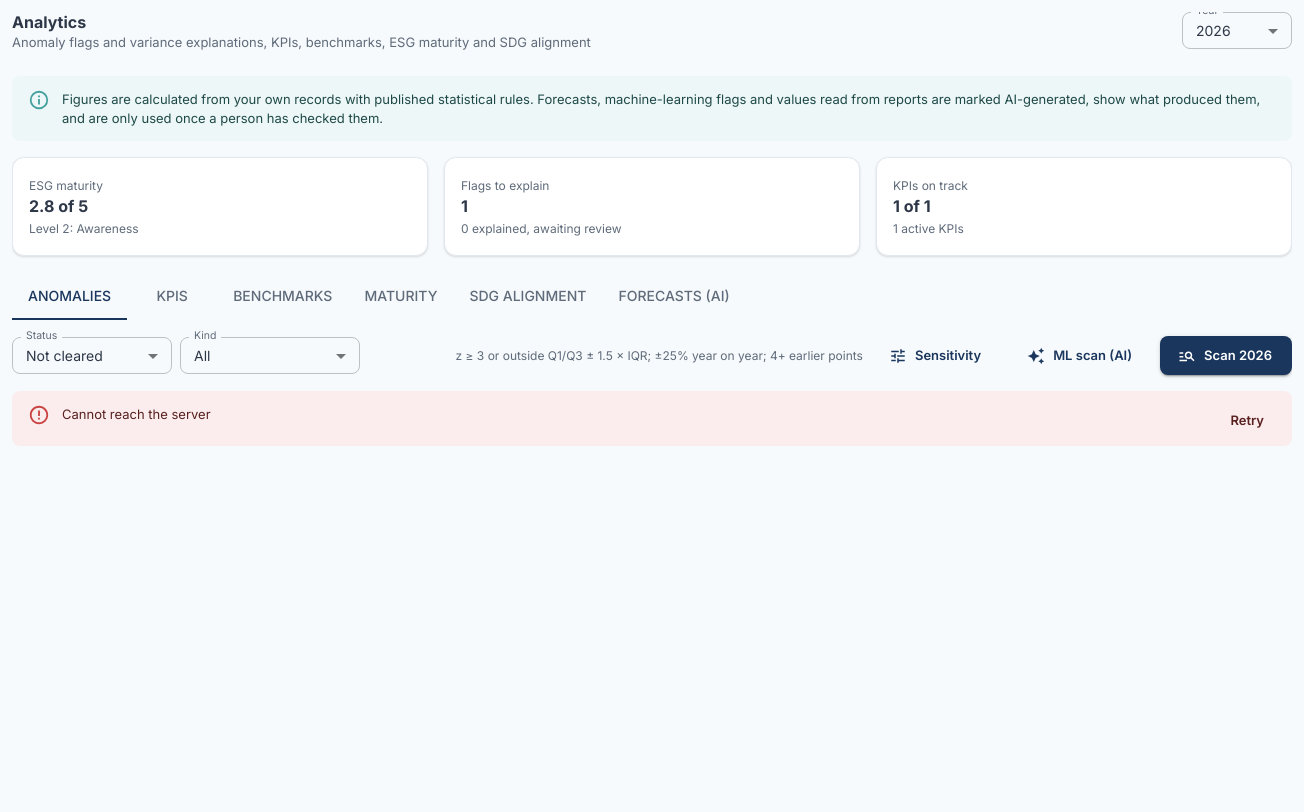
Test: Analytics page › shows the maturity dimensions with their evidence and next step
Click the tab "Maturity".
click(401, 296)  # box left=348, top=272, right=453, bottom=320
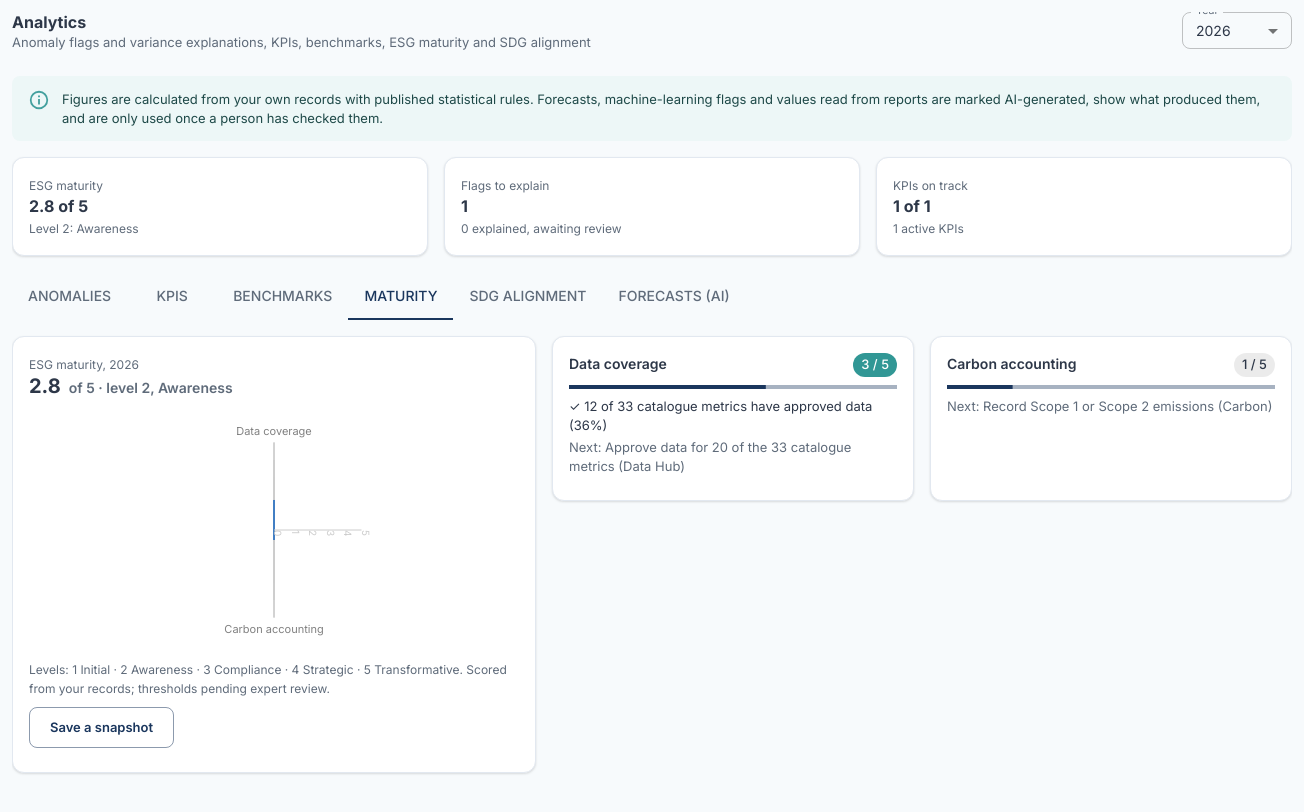
Expected: the element named "Maturity score" reads "2.8 of 5 · level 2, Awareness", left=29, top=374, right=233, bottom=398
Expected: the element named "Dimension Data coverage" shows "Next: Approve data for 20 of the 33", left=552, top=336, right=914, bottom=500
Expected: the button "Save a snapshot" is enabled, left=29, top=707, right=174, bottom=748
